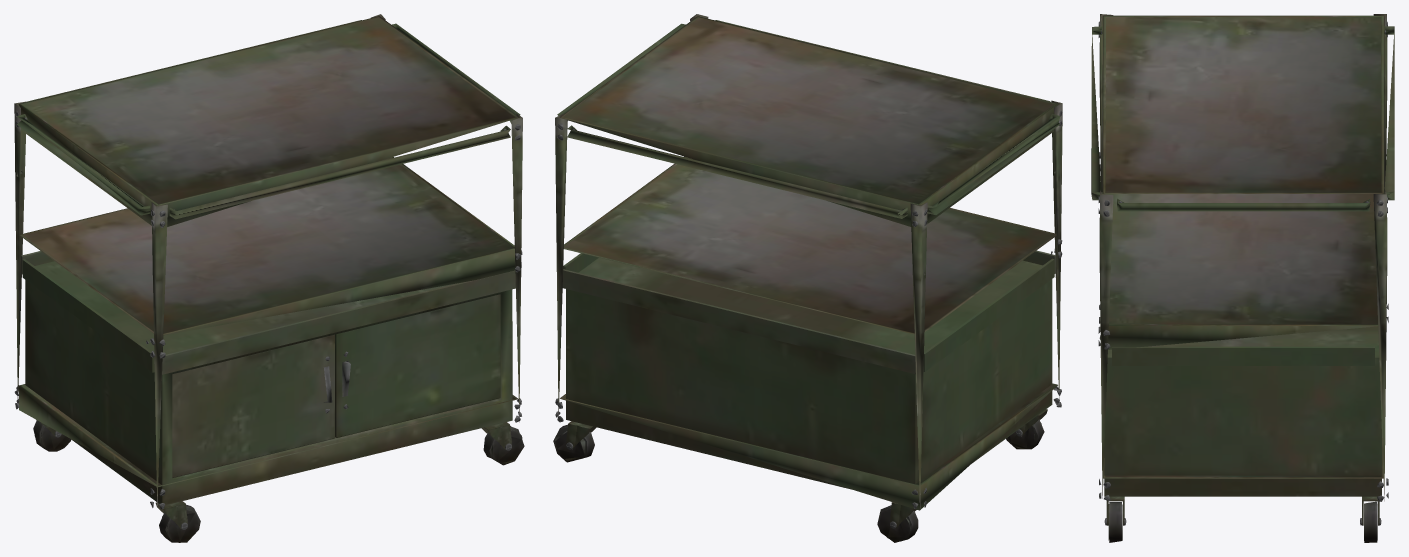
The model's file is industrial_storage_cart.glb.
The picture shows the model from 3 angles, left to right: view 1: azimuth 30°, elevation 25°; view 2: azimuth 150°, elevation 25°; view 3: azimuth 270°, elevation 25°; orthographic projection.
Visible parts, largest first — view 1: industrial_storage_cart; view 2: industrial_storage_cart; view 3: industrial_storage_cart.
Boxes of the visible parts, x1,y1,x2,y2 form: industrial_storage_cart: (14,14,524,542); industrial_storage_cart: (553,14,1062,542); industrial_storage_cart: (1091,14,1394,542).
Bounding box in the file's own units: 1.58 × 1.38 × 1.08.
Materials: 1 (1 with a texture image).
